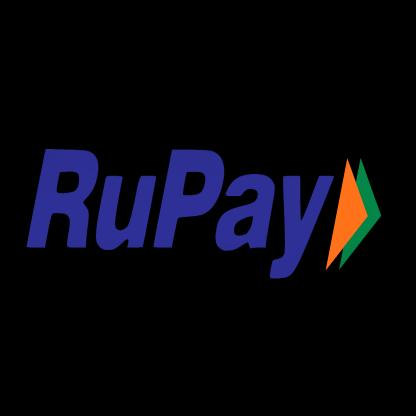Rupay: (27, 150, 382, 278)
